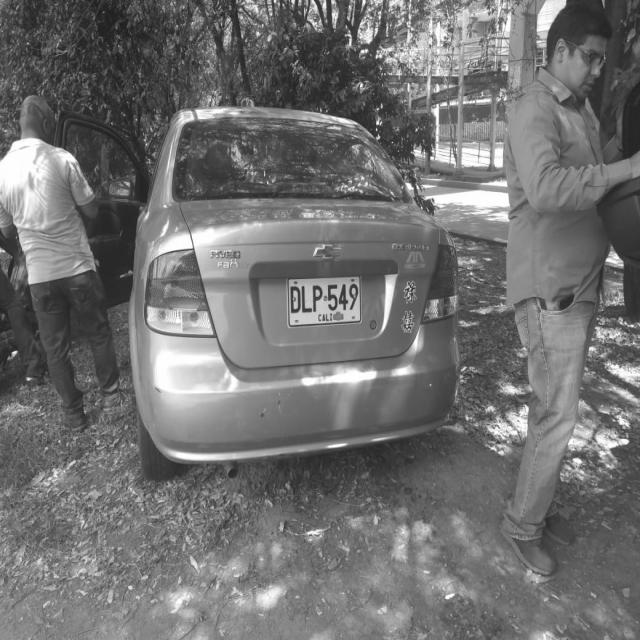plate: (286, 265, 366, 335)
